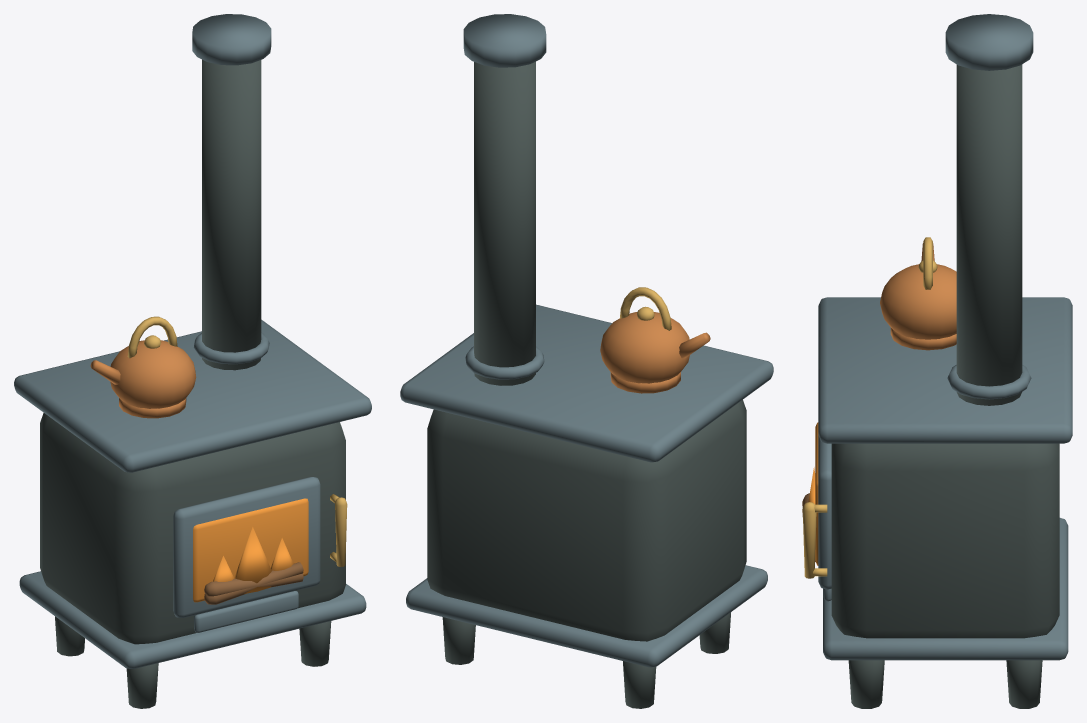
Rendered from wood-stove.glb.
3 views of the same model, side by side, from view 1: azimuth 30°, elevation 25°; view 2: azimuth 150°, elevation 25°; view 3: azimuth 270°, elevation 25° (orthographic). The views are drawn at different scales.
Parts seen in each view (by area): view 1: stove, flame; view 2: stove; view 3: stove.
Part boxes in pixels (box(x1,y1,x2,y2)): stove: box(14, 14, 371, 708); flame: box(213, 527, 293, 593); stove: box(400, 14, 773, 708); stove: box(802, 14, 1072, 708).
Bounding box in the file's own units: 0.72 × 1.65 × 0.617.
